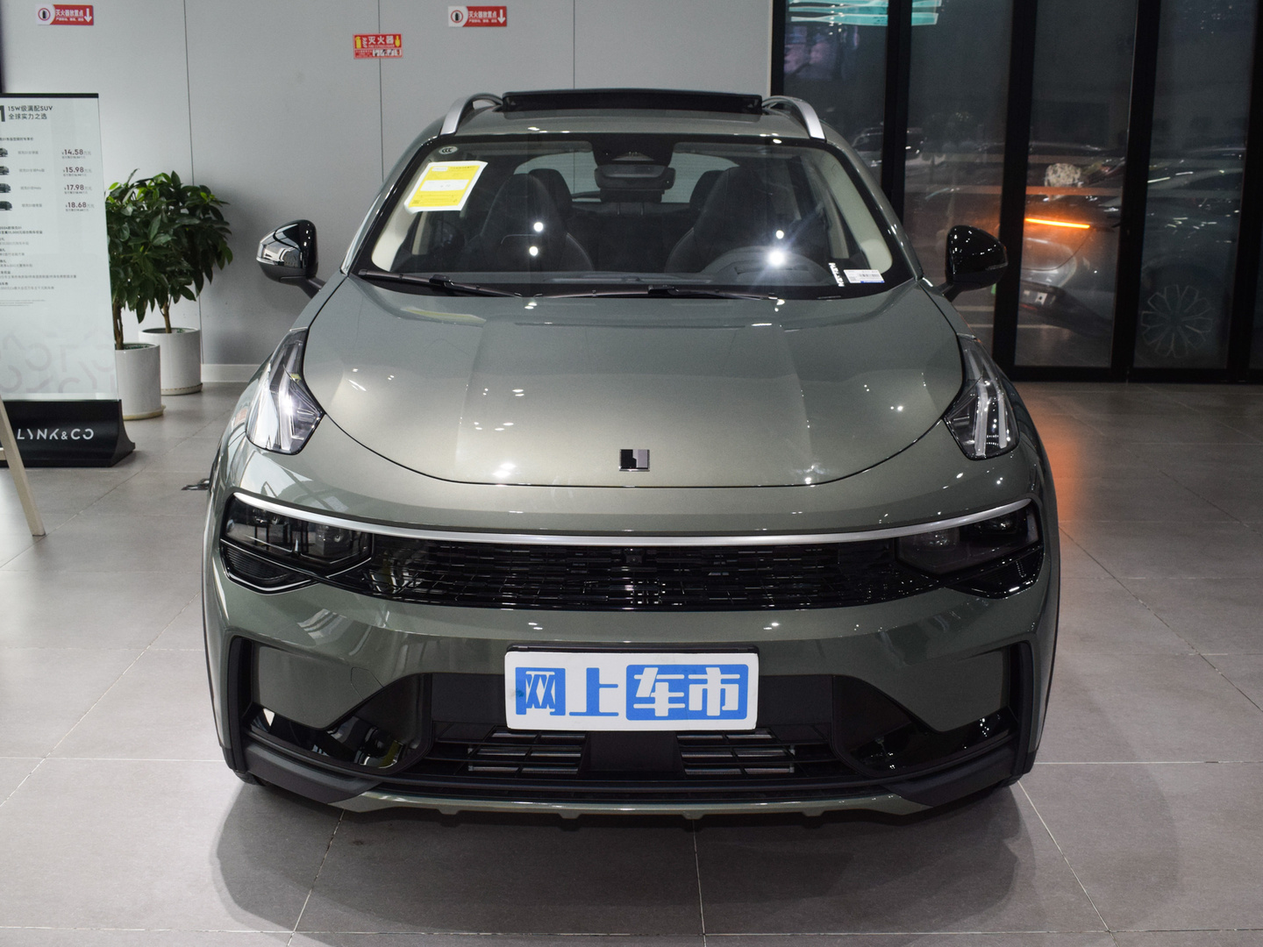LINK&CO: (620, 449, 647, 467)
